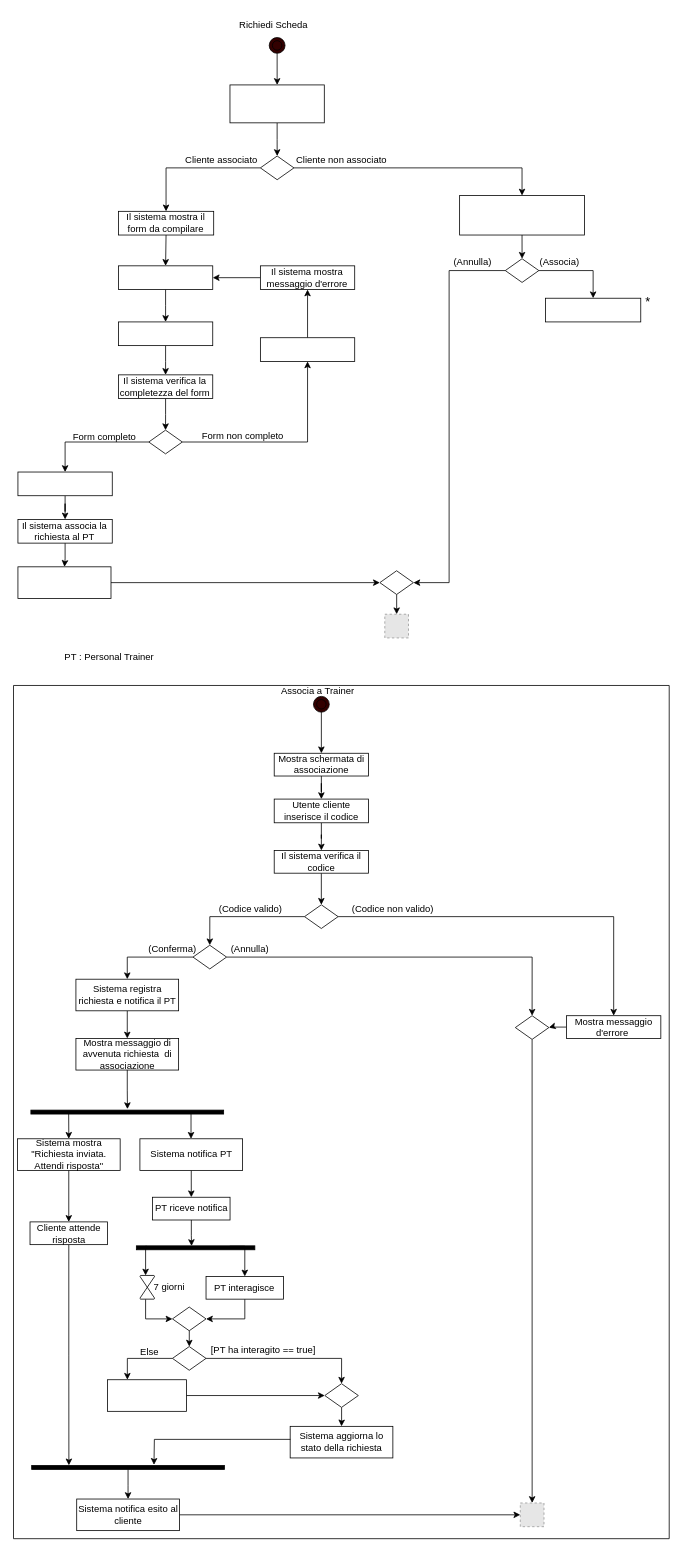
This 686x1552 diagram has some shape labels left out. Grey dashed boxes stand in for pictures. The centre of each missing label's shape, as x and y in pixels:
Associa a PT: (x=593, y=309)
Cliente compila il form: (x=165, y=277)
Cliente conferma l'invio della richiesta: (x=165, y=333)
Il sistema evidenzia i campi non compilati: (x=307, y=349)
Il sistema mostra il messaggio di conferma al cliente: (x=64, y=582)
Il sistema mostra messaggio: "Non hai un PT associato. Vuoi associarti ora?": (x=521, y=215)
Il sistema registra la richiesta: (x=64, y=483)
Il sistema verifica che il cliente sia associato ad un PT: (x=276, y=103)
Sistema rifiuta automaticamente: (x=147, y=1395)
